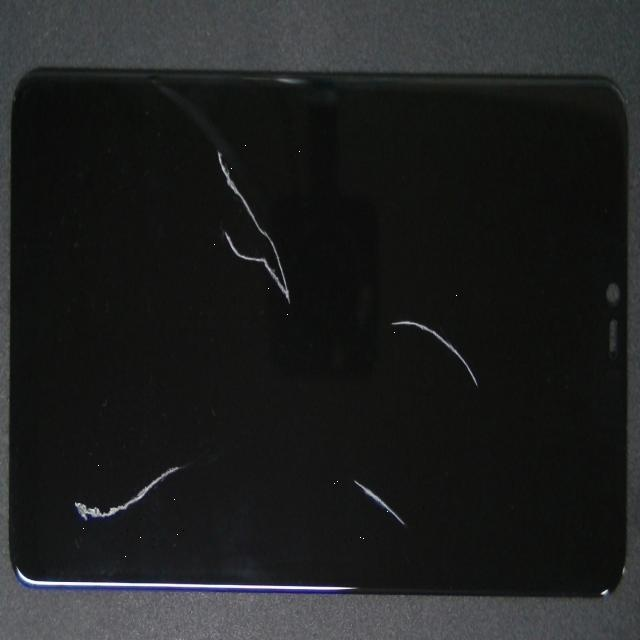scratch: (129, 211, 534, 640), (200, 123, 573, 451), (45, 56, 347, 386), (31, 190, 120, 640)
